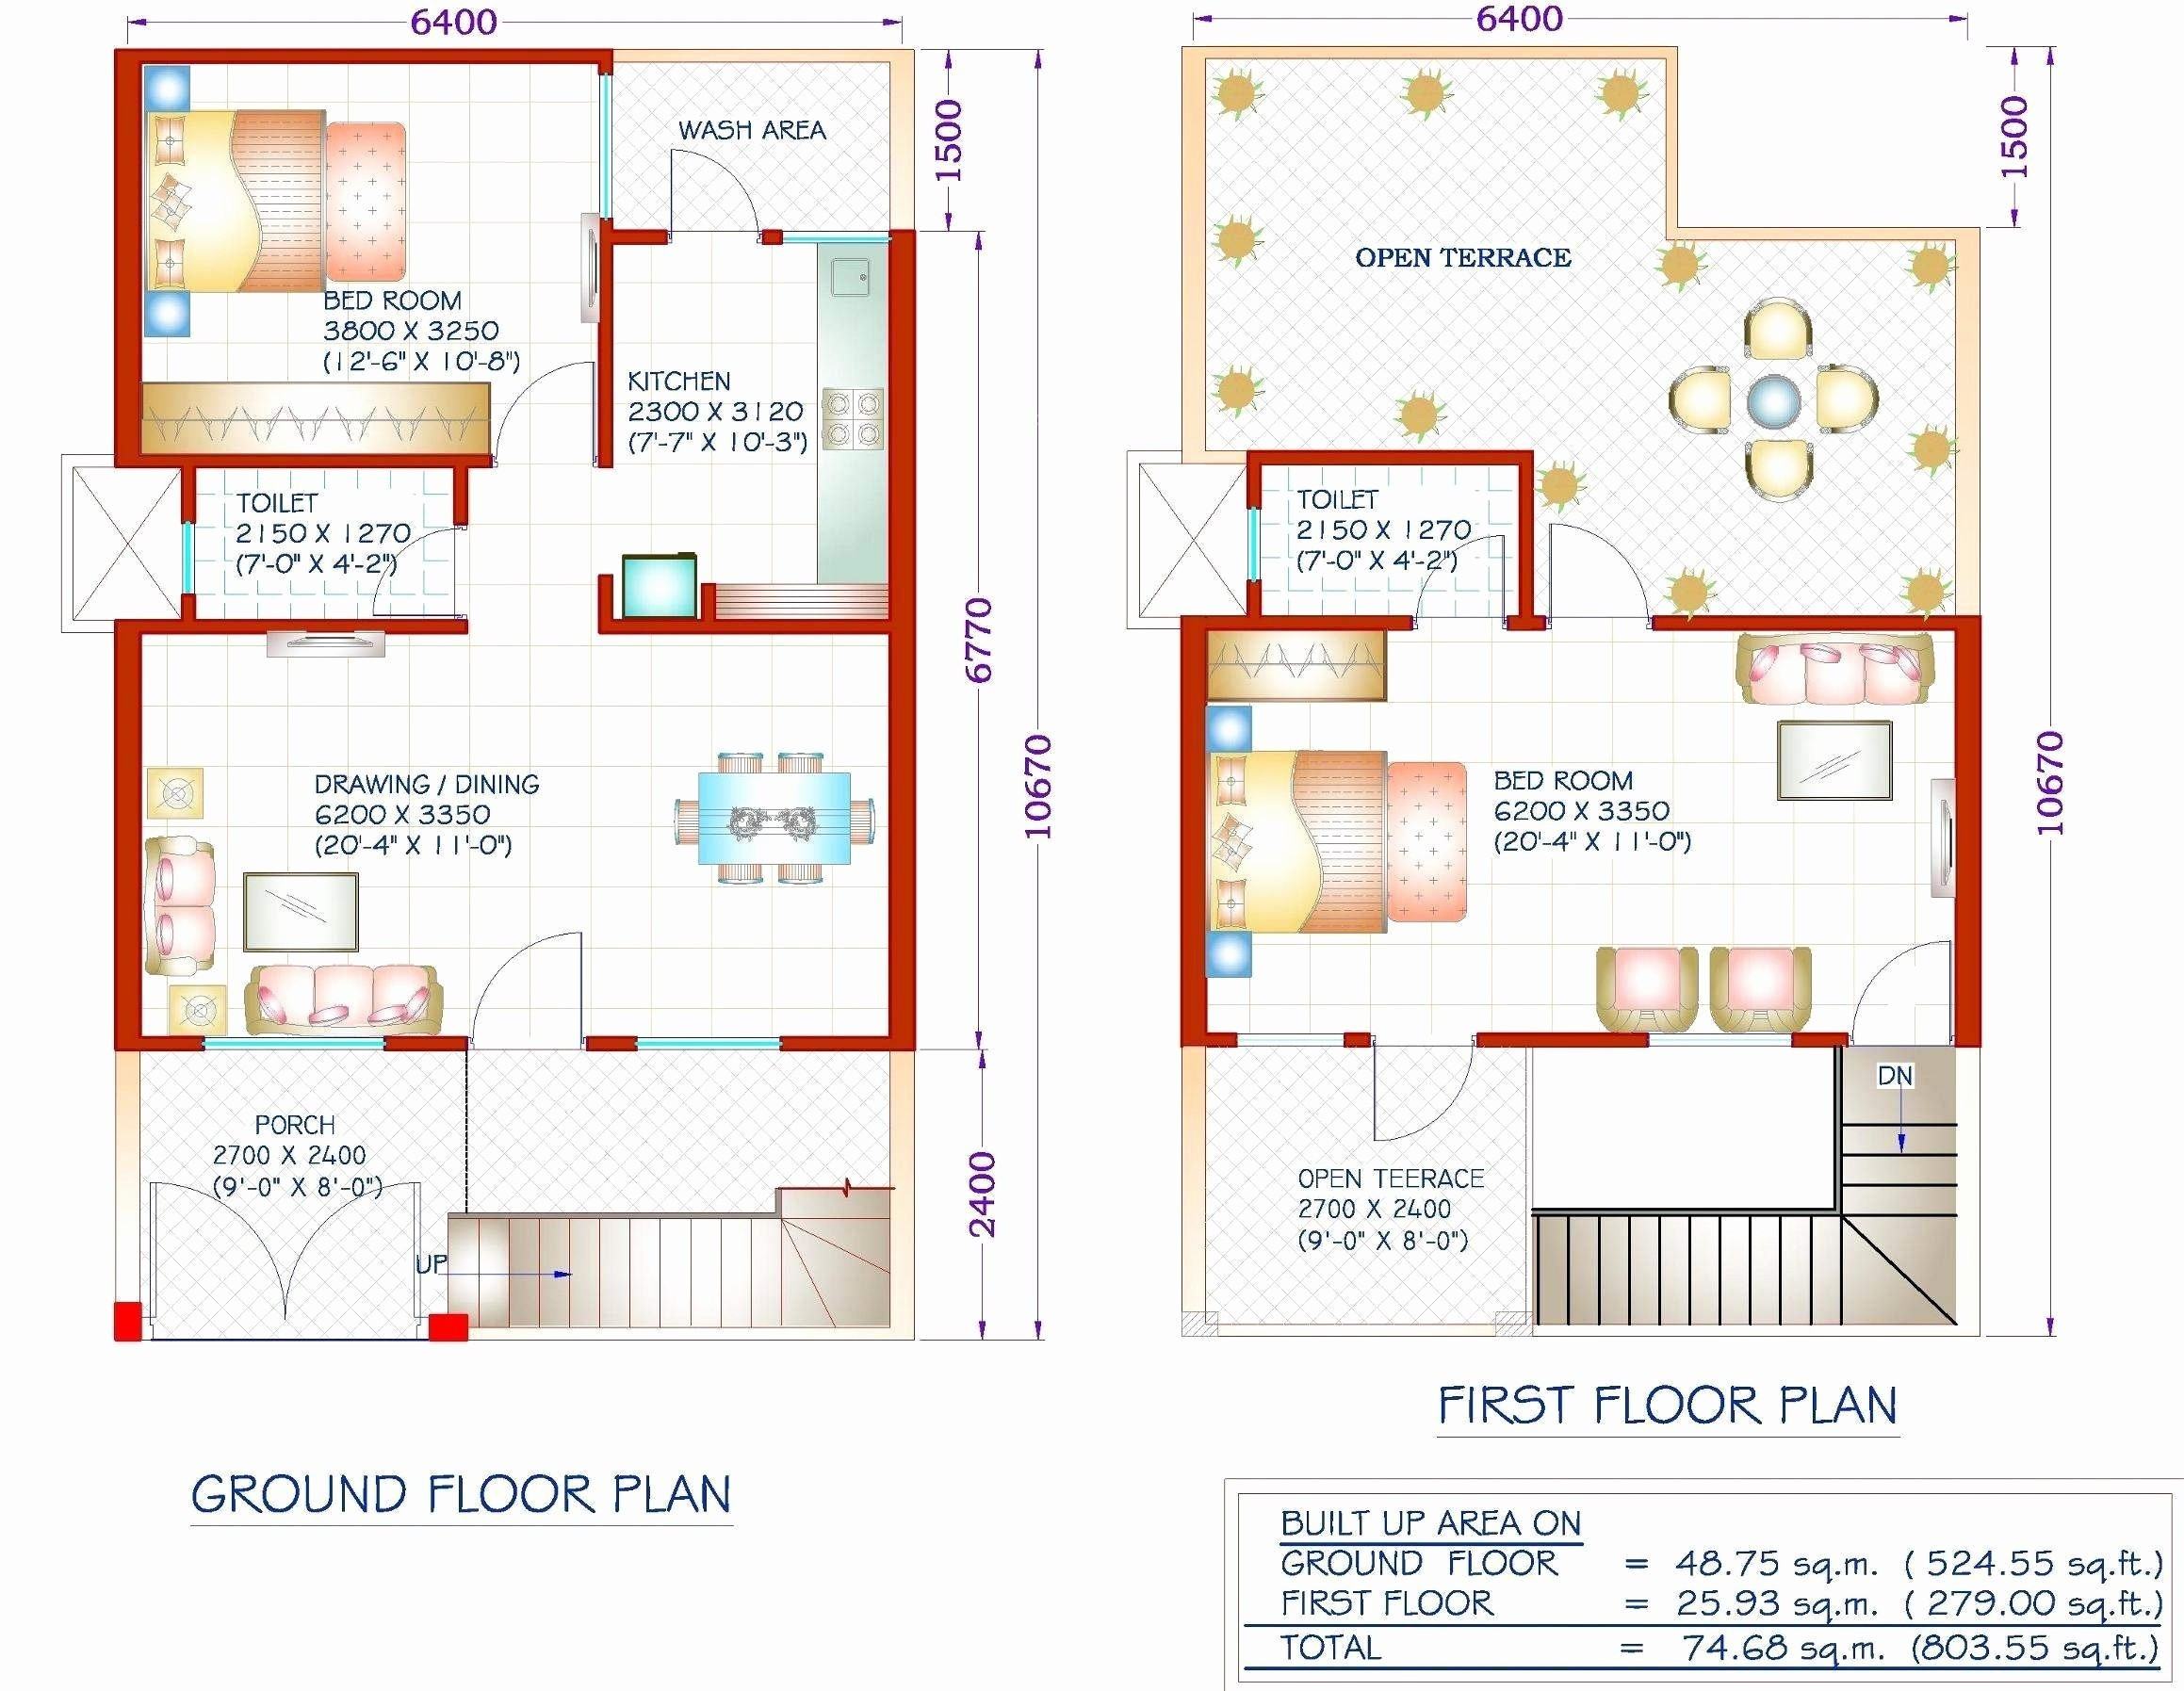door: (461, 913, 592, 1028), (482, 363, 601, 471), (1369, 1042, 1475, 1147), (665, 144, 769, 248), (1535, 521, 1642, 624), (1853, 939, 1959, 1042)
